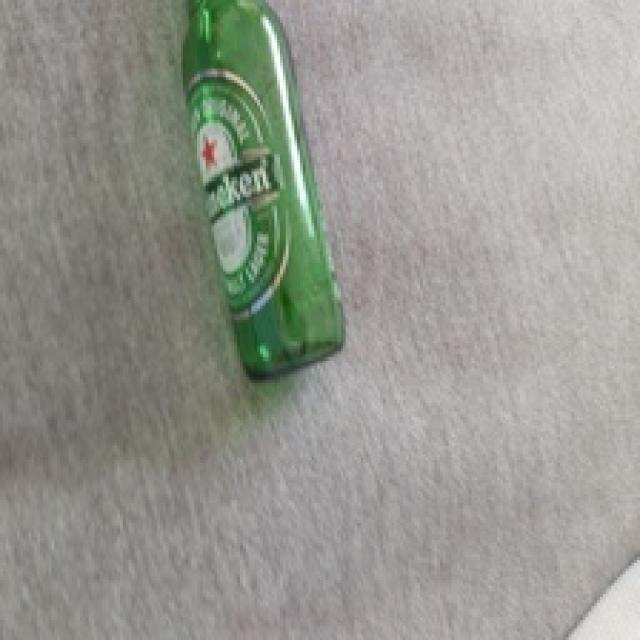Glass: (181, 0, 350, 381)
